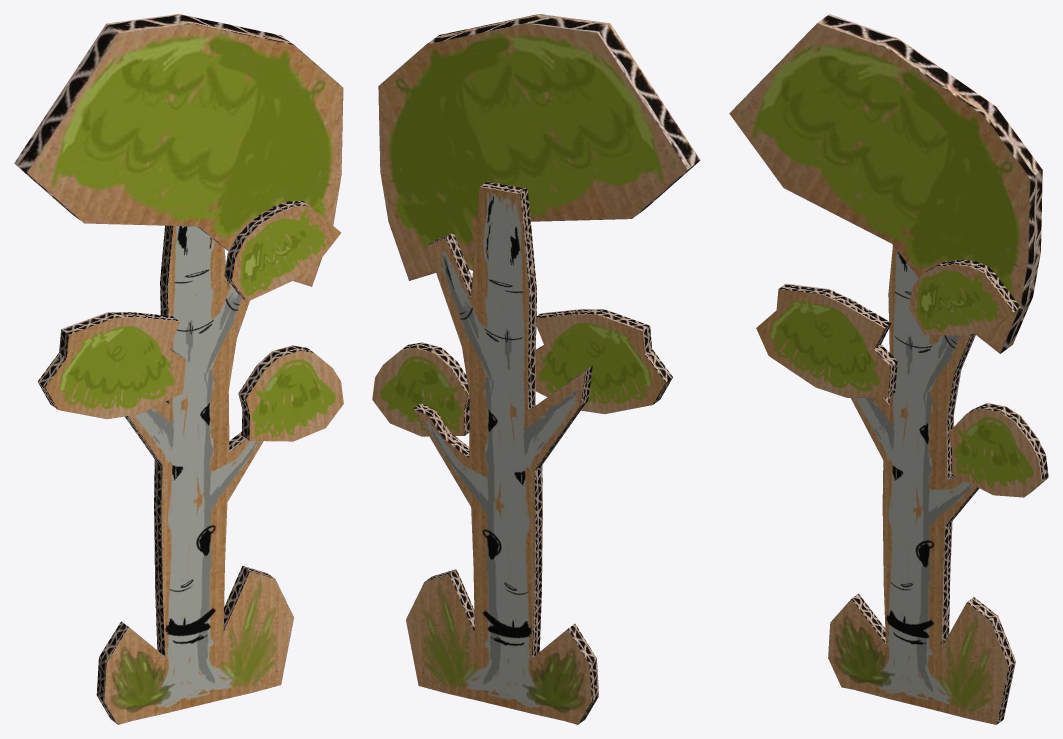
The model's file is cardboard-tree.glb.
3 views of the same model, side by side, from view 1: azimuth 30°, elevation 25°; view 2: azimuth 150°, elevation 25°; view 3: azimuth 330°, elevation 25° (orthographic). The views are drawn at different scales.
Parts seen in each view (by area): view 1: Plane.015, Plane.018, Plane.017, Plane.019, Cylinder.044; view 2: Plane.015, Plane.018, Plane.017, Plane.019; view 3: Plane.015, Plane.018, Plane.017, Plane.019, Cylinder.044.
Part boxes in pixels (x1=…): Plane.015: x1=14, y1=14, x2=343, y2=286; Plane.018: x1=96, y1=225, x2=293, y2=724; Plane.017: x1=37, y1=312, x2=185, y2=419; Plane.019: x1=238, y1=345, x2=343, y2=441; Cylinder.044: x1=224, y1=201, x2=340, y2=301; Plane.015: x1=378, y1=14, x2=700, y2=280; Plane.018: x1=406, y1=181, x2=598, y2=724; Plane.017: x1=535, y1=309, x2=672, y2=414; Plane.019: x1=372, y1=342, x2=469, y2=436; Plane.015: x1=729, y1=14, x2=1042, y2=353; Plane.018: x1=828, y1=245, x2=1015, y2=724; Plane.017: x1=756, y1=283, x2=897, y2=397; Plane.019: x1=948, y1=403, x2=1048, y2=497; Cylinder.044: x1=909, y1=259, x2=1020, y2=335.
Size of the model in its own units: 1.89 by 3.94 by 0.2931.
Materials: 1 (1 with a texture image).
